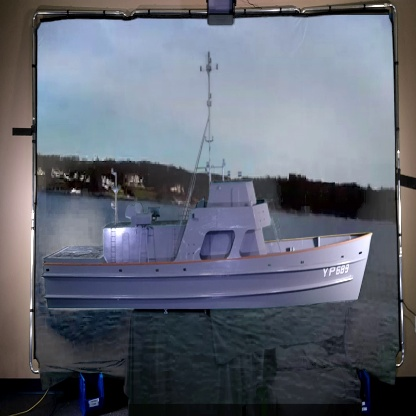YP689: (41, 44, 375, 314)
